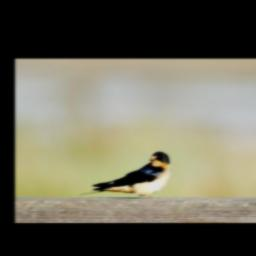Swallow: (77, 151, 171, 200)
